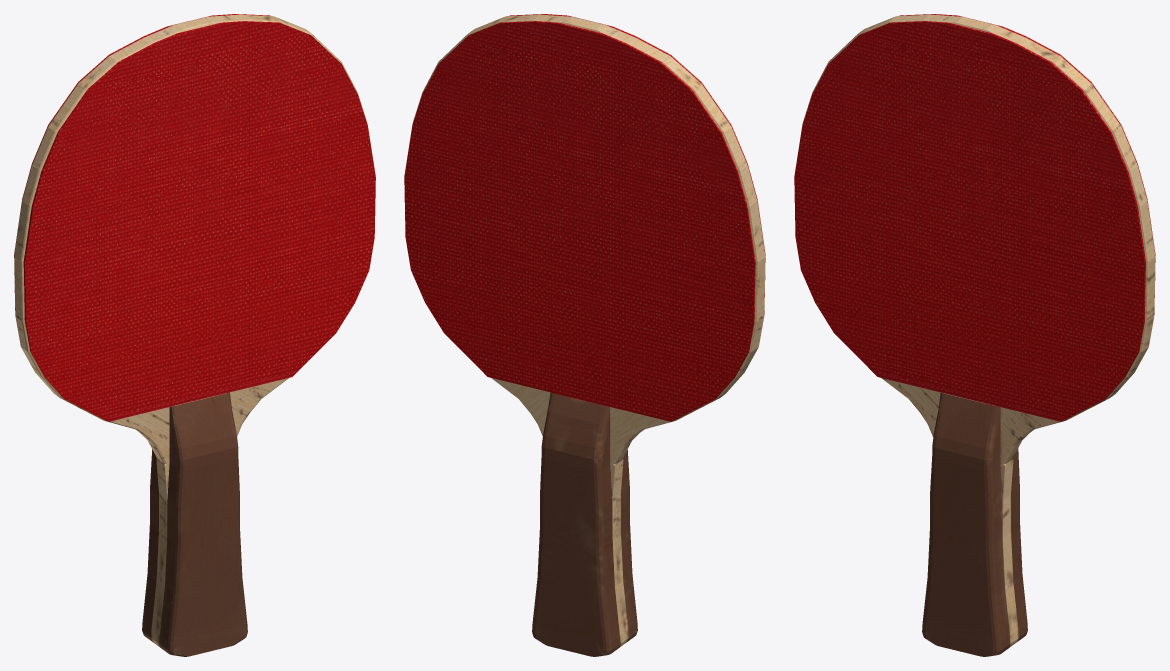
The model's file is racket.obj.
3 renders of one model, left to right at view 1: azimuth 30°, elevation 25°; view 2: azimuth 150°, elevation 25°; view 3: azimuth 330°, elevation 25°, orthographic.
Visible parts, largest first — view 1: BAKE; view 2: BAKE; view 3: BAKE.
Boxes of the visible parts, <box> form: BAKE: <box>14,14,375,656</box>; BAKE: <box>404,14,765,656</box>; BAKE: <box>794,14,1155,656</box>.
Size of the model in its own units: 14.96 by 24.84 by 2.28.
Materials: 1 (1 with a texture image).
